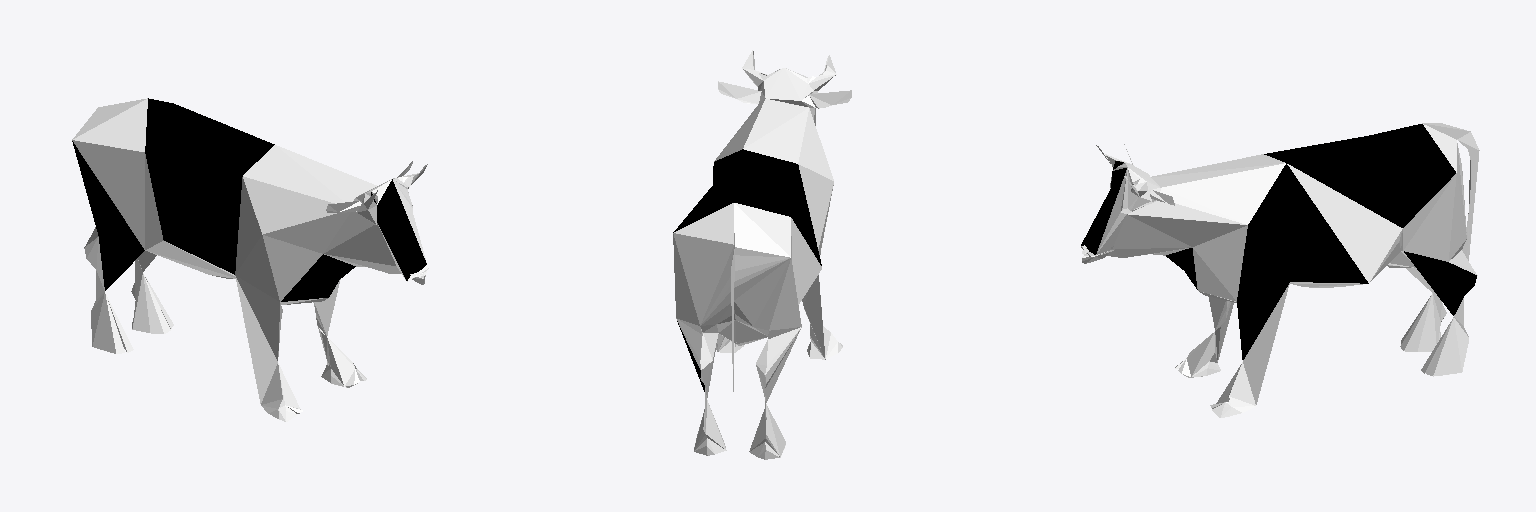
File: cow.obj
The picture shows the model from 3 angles: view 1: azimuth 30°, elevation 25°; view 2: azimuth 150°, elevation 25°; view 3: azimuth 270°, elevation 25°; orthographic projection.
Parts seen in each view (by area): view 1: Cow.1; view 2: Cow.1; view 3: Cow.1.
Boxes of the visible parts, x1,y1,x2,y2 form: Cow.1: [72, 98, 428, 421]; Cow.1: [673, 50, 851, 459]; Cow.1: [1081, 123, 1479, 417].
Size of the model in its own units: 8.09 by 9.4 by 13.48.